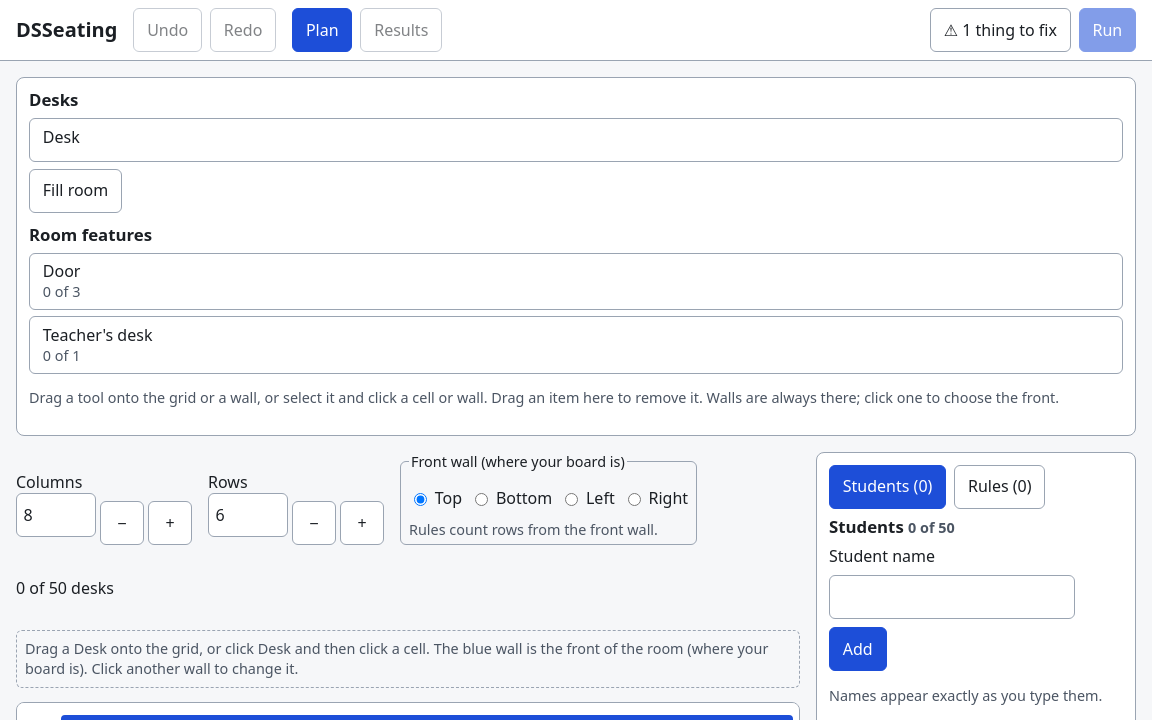
Test case: Plan mode › places a door on a wall with the click alternative and refuses a taken spot
Click the button "Door 0 of 3" at (62, 271), box [29,253,1123,310]
(page scrolled)
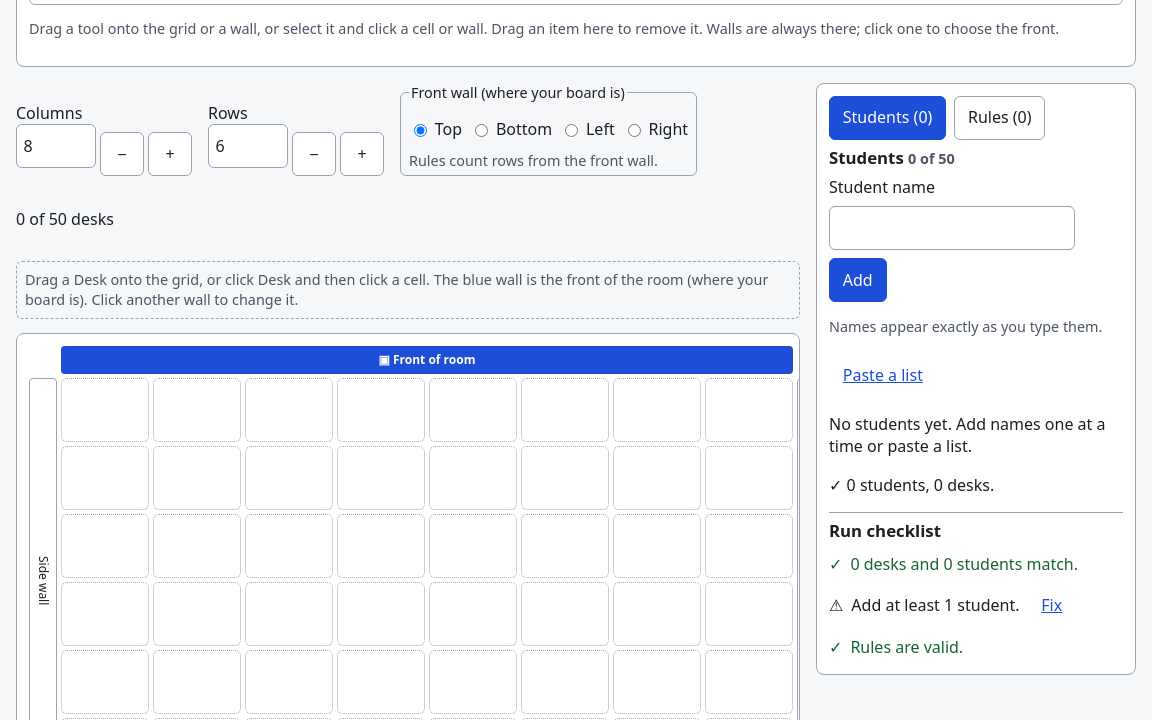
Click the cell named "Top wall, above column 2, Front of room" at (197, 360), box [153,346,241,374]
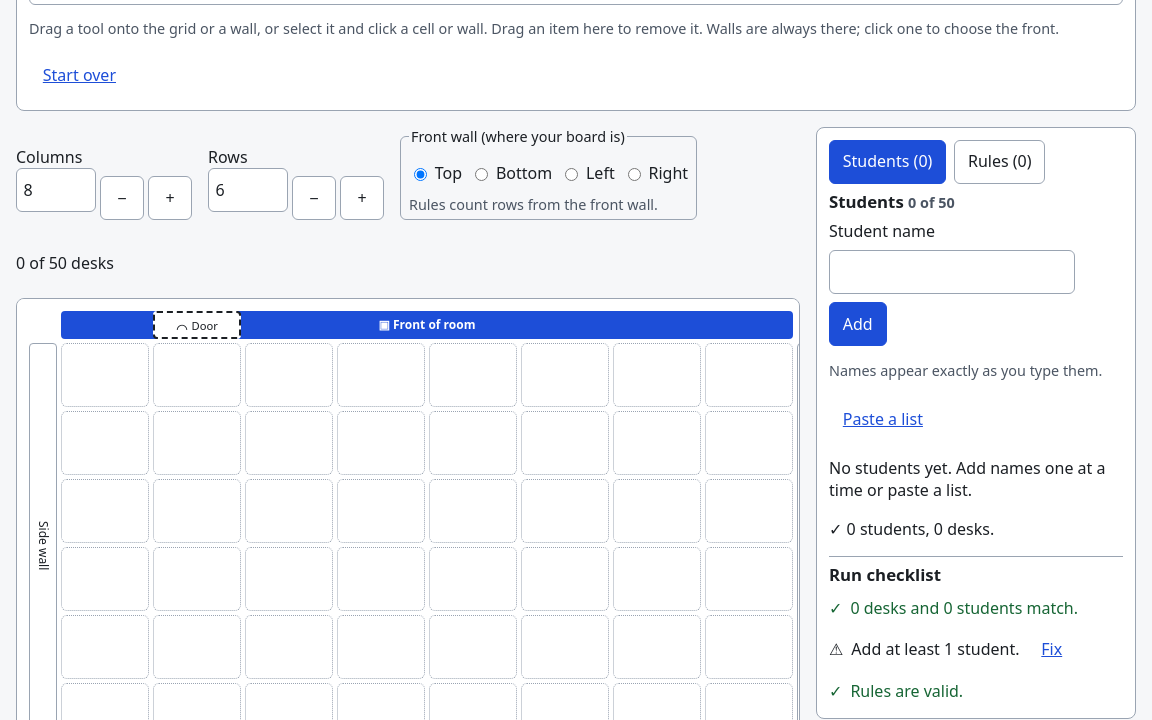
Check: the cell named "Top wall, above column 2, Front of room, Door" is shown
Click the cell named "Top wall, above column 2, Front of room, Door" at (197, 325), box [153,311,241,339]
(page scrolled)
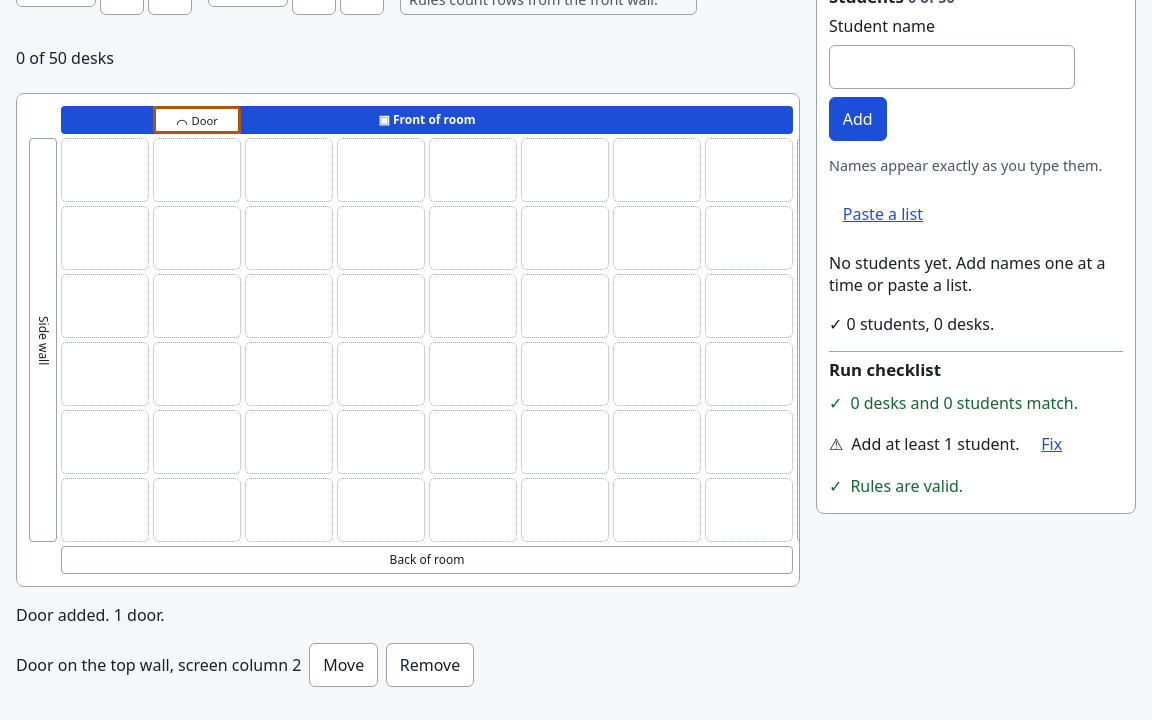
Check: the text "Door on the top wall, screen column 2" is shown, box [16,654,301,677]
